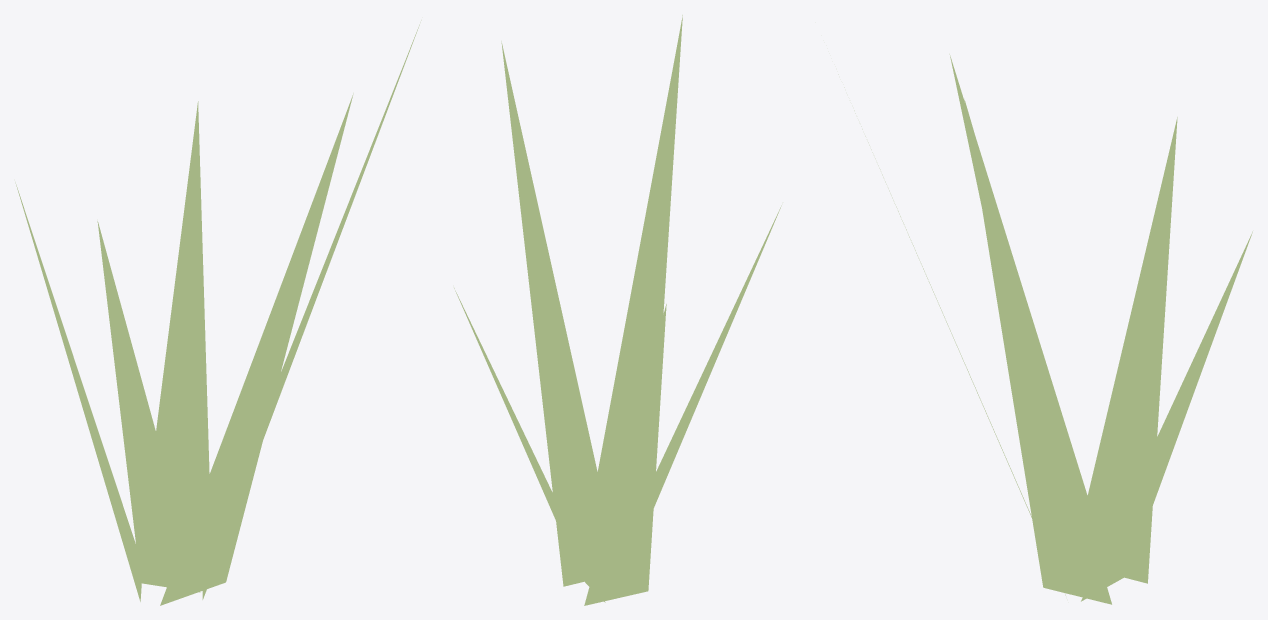
The picture shows the model from 3 angles, left to right: view 1: azimuth 30°, elevation 25°; view 2: azimuth 150°, elevation 25°; view 3: azimuth 270°, elevation 25°; orthographic projection. The views are drawn at different scales.
Visible parts, largest first — view 1: SC_PlateauGrass; view 2: SC_PlateauGrass; view 3: SC_PlateauGrass.
Part boxes in pixels (x1,y1,x2,y2): SC_PlateauGrass: [15, 20, 421, 605]; SC_PlateauGrass: [454, 15, 781, 605]; SC_PlateauGrass: [838, 54, 1252, 604].
Bounding box in the file's own units: 0.538 × 0.898 × 0.6064.
